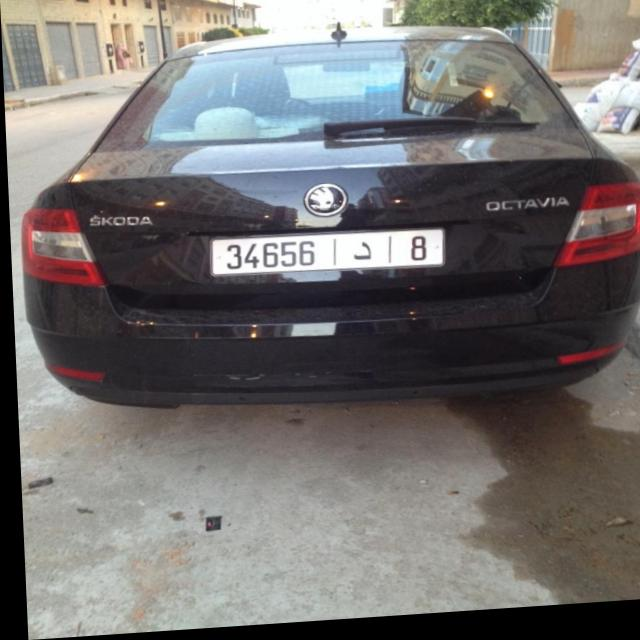License-Plate: (207, 235, 442, 279)
